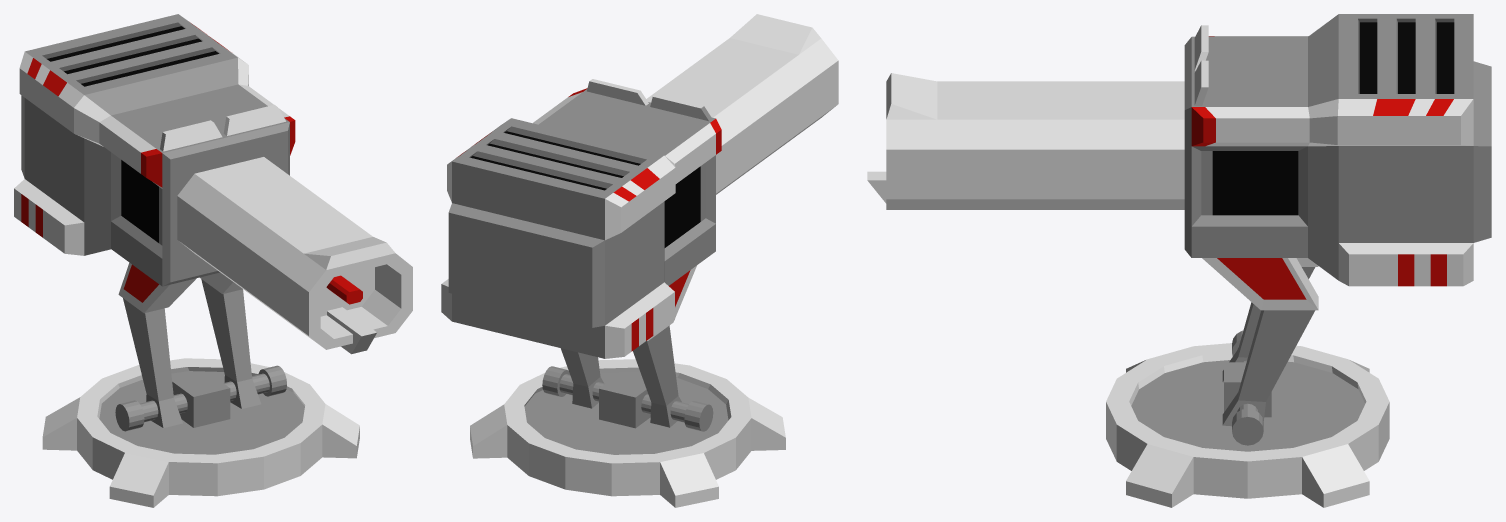
File: BeamCannon1.fbx
3 renders of one model, left to right at view 1: azimuth 30°, elevation 25°; view 2: azimuth 150°, elevation 25°; view 3: azimuth 270°, elevation 25°, orthographic. The views are drawn at different scales.
Visible parts, largest first — view 1: Body, Barrel, Base, Legs, BaseJoint, BaseRod; view 2: Body, Base, Barrel, Legs, BaseJoint, BaseRod; view 3: Body, Barrel, Base, Legs, BaseRod, BaseJoint.
Part boxes in pixels (x1=…): Body: x1=14, y1=14, x2=295, y2=286; Barrel: x1=177, y1=157, x2=412, y2=354; Base: x1=42, y1=358, x2=359, y2=507; Legs: x1=118, y1=262, x2=261, y2=427; BaseJoint: x1=172, y1=372, x2=230, y2=427; BaseRod: x1=115, y1=365, x2=286, y2=431; Body: x1=441, y1=79, x2=721, y2=358; Base: x1=470, y1=359, x2=785, y2=507; Barrel: x1=646, y1=14, x2=838, y2=194; Legs: x1=561, y1=265, x2=696, y2=427; BaseJoint: x1=599, y1=373, x2=650, y2=428; BaseRod: x1=542, y1=366, x2=713, y2=431; Body: x1=1184, y1=14, x2=1491, y2=286; Barrel: x1=867, y1=73, x2=1184, y2=209; Base: x1=1106, y1=343, x2=1389, y2=507; Legs: x1=1202, y1=258, x2=1318, y2=426; BaseRod: x1=1232, y1=330, x2=1263, y2=445; BaseJoint: x1=1224, y1=362, x2=1271, y2=417.
Bounding box in the file's own units: 115 × 149 × 220.
